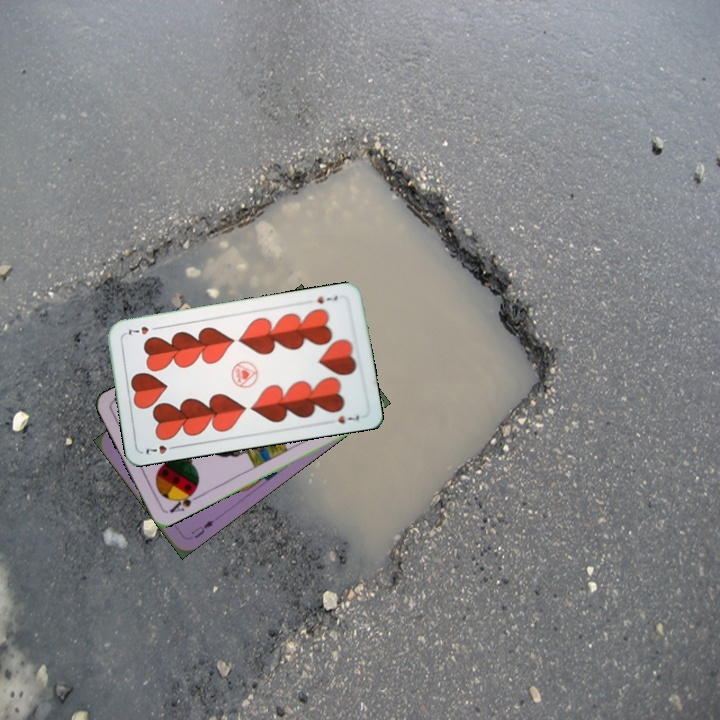EU: (187, 516, 217, 541)
H7: (142, 441, 180, 457), (313, 292, 340, 306)
SA: (166, 486, 202, 516)
